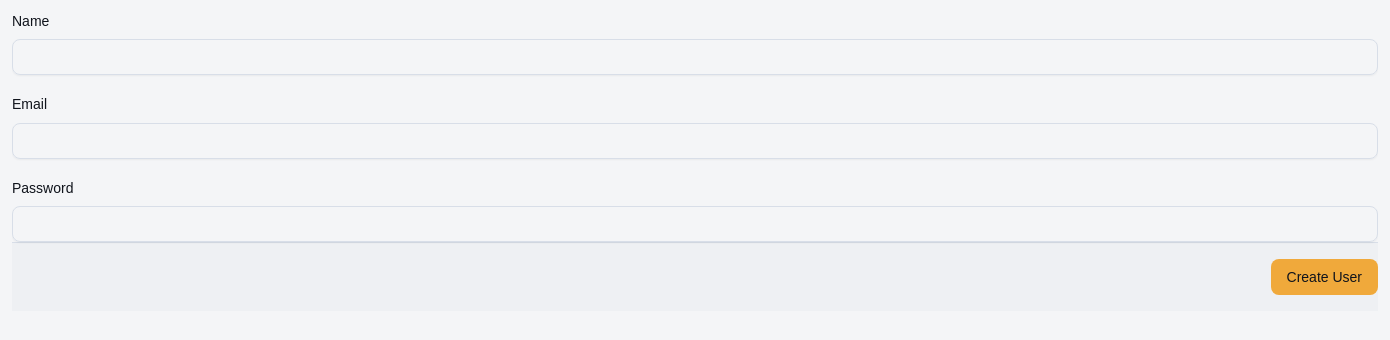
Test: CreateUserForm › shows a validation error and blocks submission when the password is too short
Step 1. Type "Ada Lovelace" into the field labelled "Name" → {"x": 695, "y": 57}, box [12, 39, 1378, 75]
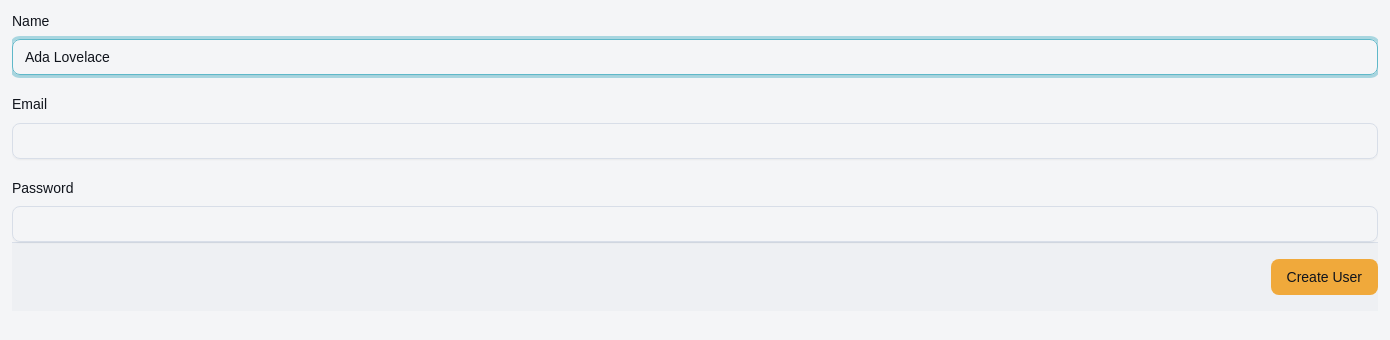
Step 2. Type "ada@example.com" into the field labelled "Email" → {"x": 695, "y": 140}, box [12, 122, 1378, 158]
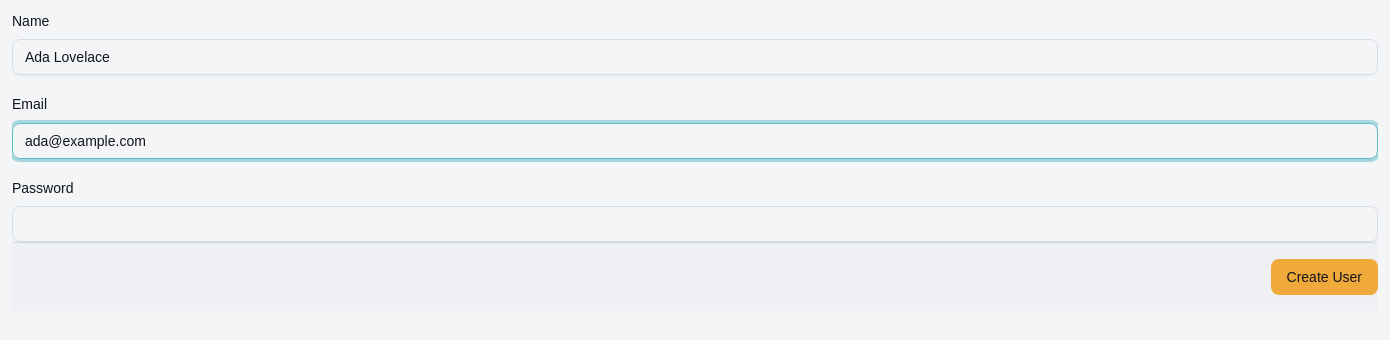
Step 3. Type "short1" into the password field labelled "Password" → {"x": 695, "y": 224}, box [12, 206, 1378, 242]
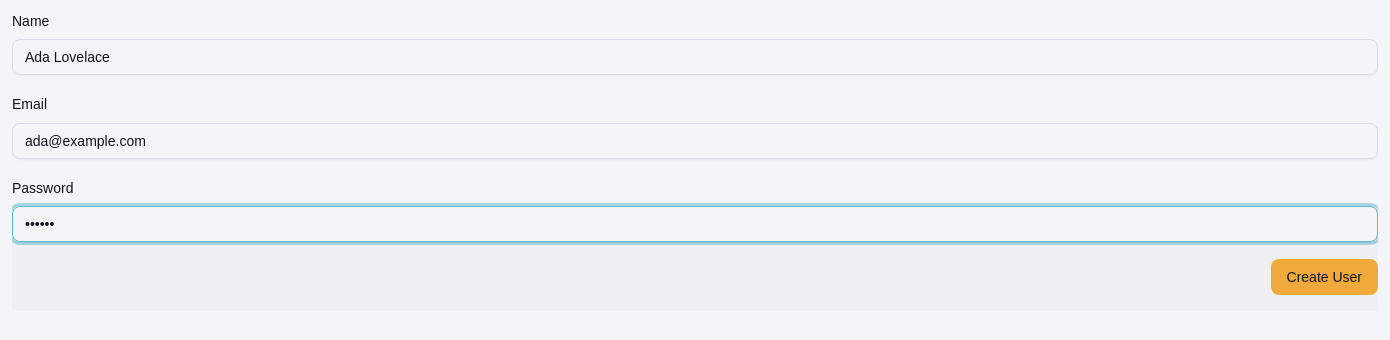
Step 4. Click the button "Create User" → {"x": 1324, "y": 277}, box [1270, 259, 1378, 295]
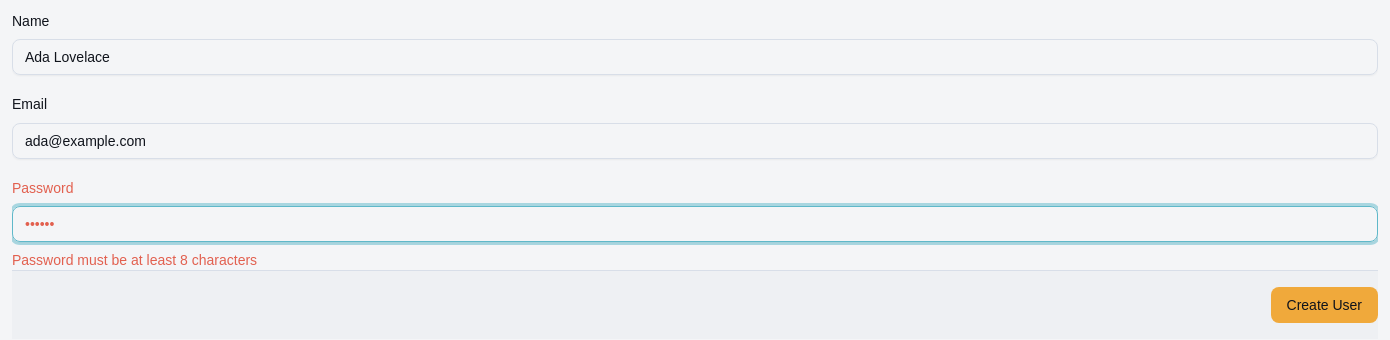
Result: the text "Password must be at least 8 characters" is shown at [12, 252, 257, 268]
